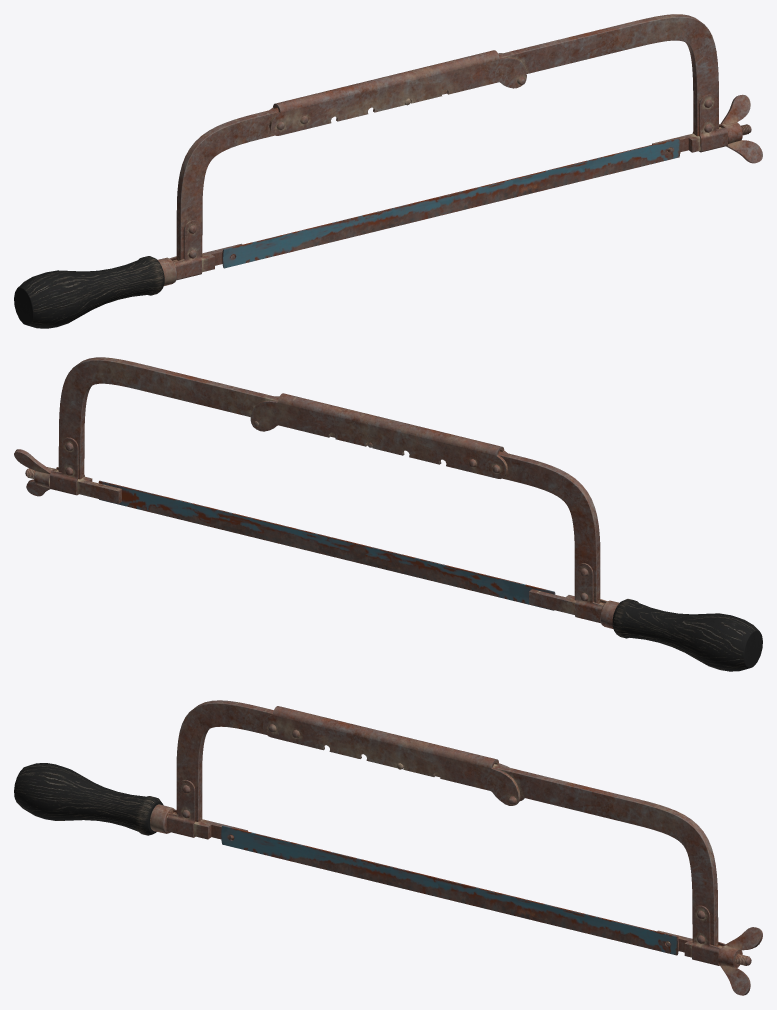
The model's file is rusted_hacksaw.glb.
3 views of the same model, one above another, from view 1: azimuth 30°, elevation 25°; view 2: azimuth 150°, elevation 25°; view 3: azimuth 330°, elevation 25° (orthographic).
Visible parts, largest first — view 1: rusted_hacksaw; view 2: rusted_hacksaw; view 3: rusted_hacksaw.
Part boxes in pixels (x1,y1,x2,y2): rusted_hacksaw: [14, 14, 762, 328]; rusted_hacksaw: [14, 357, 762, 671]; rusted_hacksaw: [14, 700, 762, 995].
Bounding box in the file's own units: 0.4964 × 0.1094 × 0.0328.
Materials: 1 (1 with a texture image).
